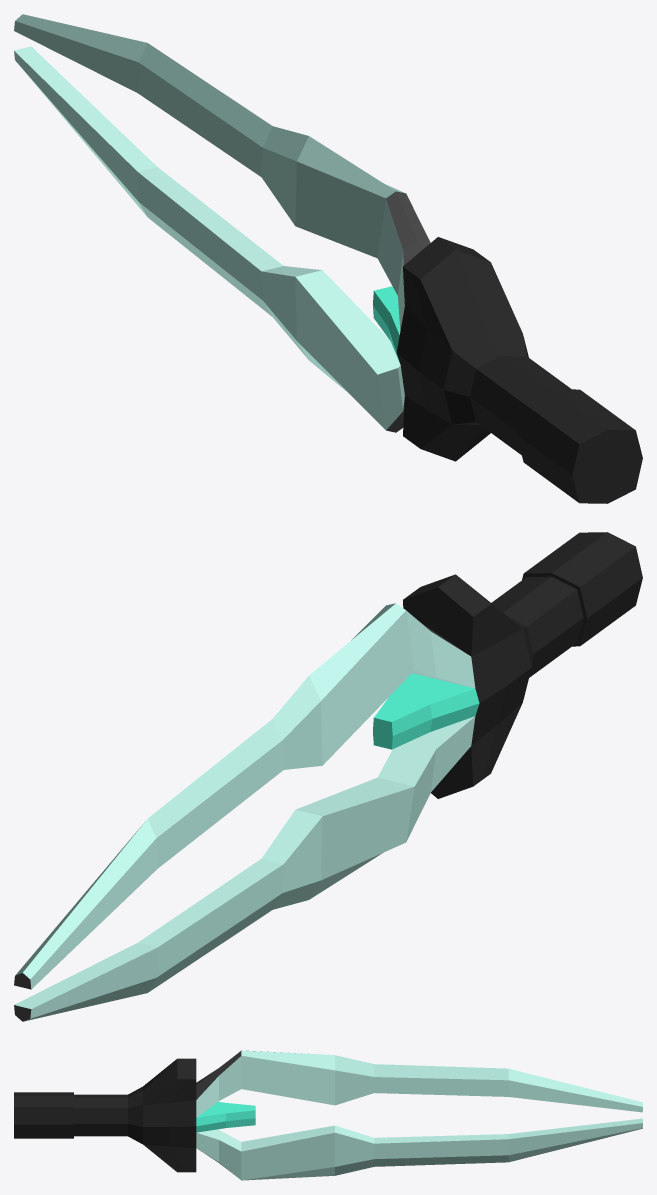
Rendered from Blade_Model.fbx.
3 views of the same model, one above another, from view 1: azimuth 30°, elevation 25°; view 2: azimuth 150°, elevation 25°; view 3: azimuth 270°, elevation 25° (orthographic). The views are drawn at different scales.
Parts seen in each view (by area): view 1: Blade; view 2: Blade; view 3: Blade.
Boxes of the visible parts, x1=… form: Blade: x1=14, y1=14, x2=642, y2=503; Blade: x1=14, y1=532, x2=642, y2=1021; Blade: x1=14, y1=1050, x2=642, y2=1180.
Bounding box in the file's own units: 738 × 1932 × 8484.
1 material, 1 textured.
